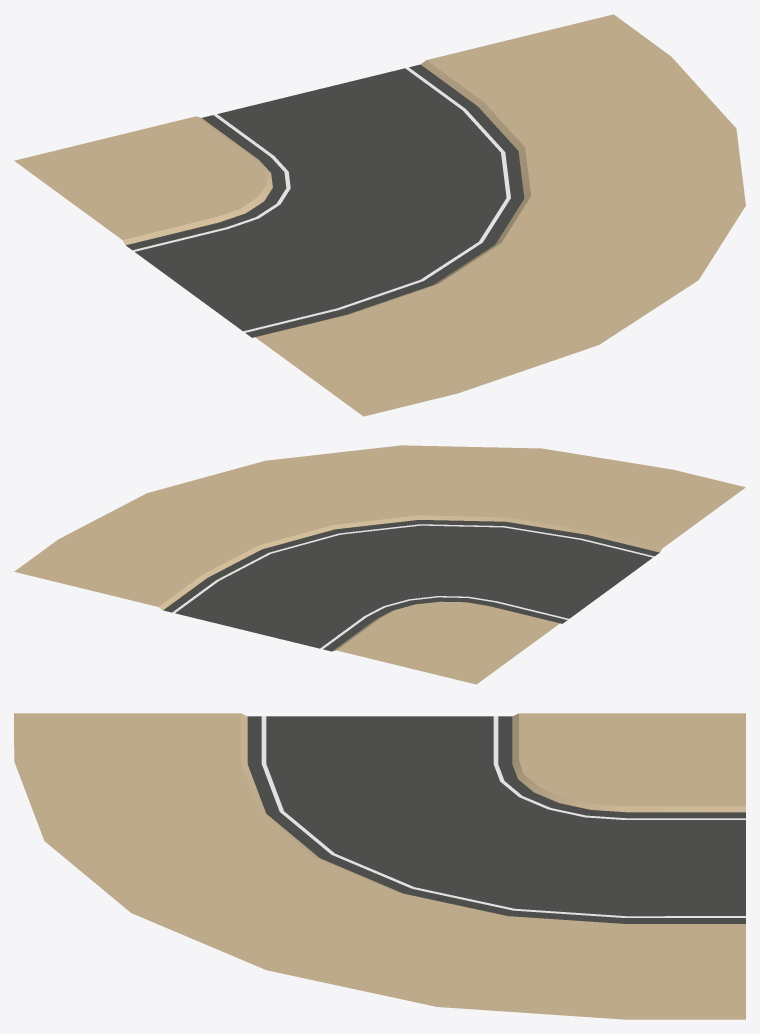
Rendered from left_corner.fbx.
3 views of the same model, one above another, from view 1: azimuth 30°, elevation 25°; view 2: azimuth 150°, elevation 25°; view 3: azimuth 270°, elevation 25° (orthographic). The views are drawn at different scales.
Visible parts, largest first — view 1: left_corner; view 2: left_corner; view 3: left_corner.
Boxes of the visible parts, x1,y1,x2,y2 form: left_corner: [14, 14, 745, 416]; left_corner: [14, 445, 745, 684]; left_corner: [14, 713, 745, 1019].
Bounding box in the file's own units: 1661 × 7.82 × 1676.
